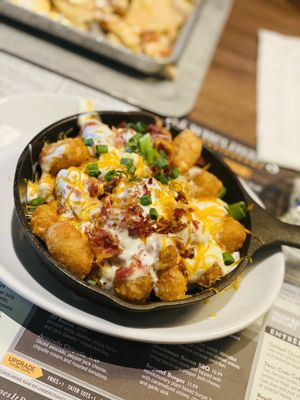sushi: (2, 0, 237, 118)
